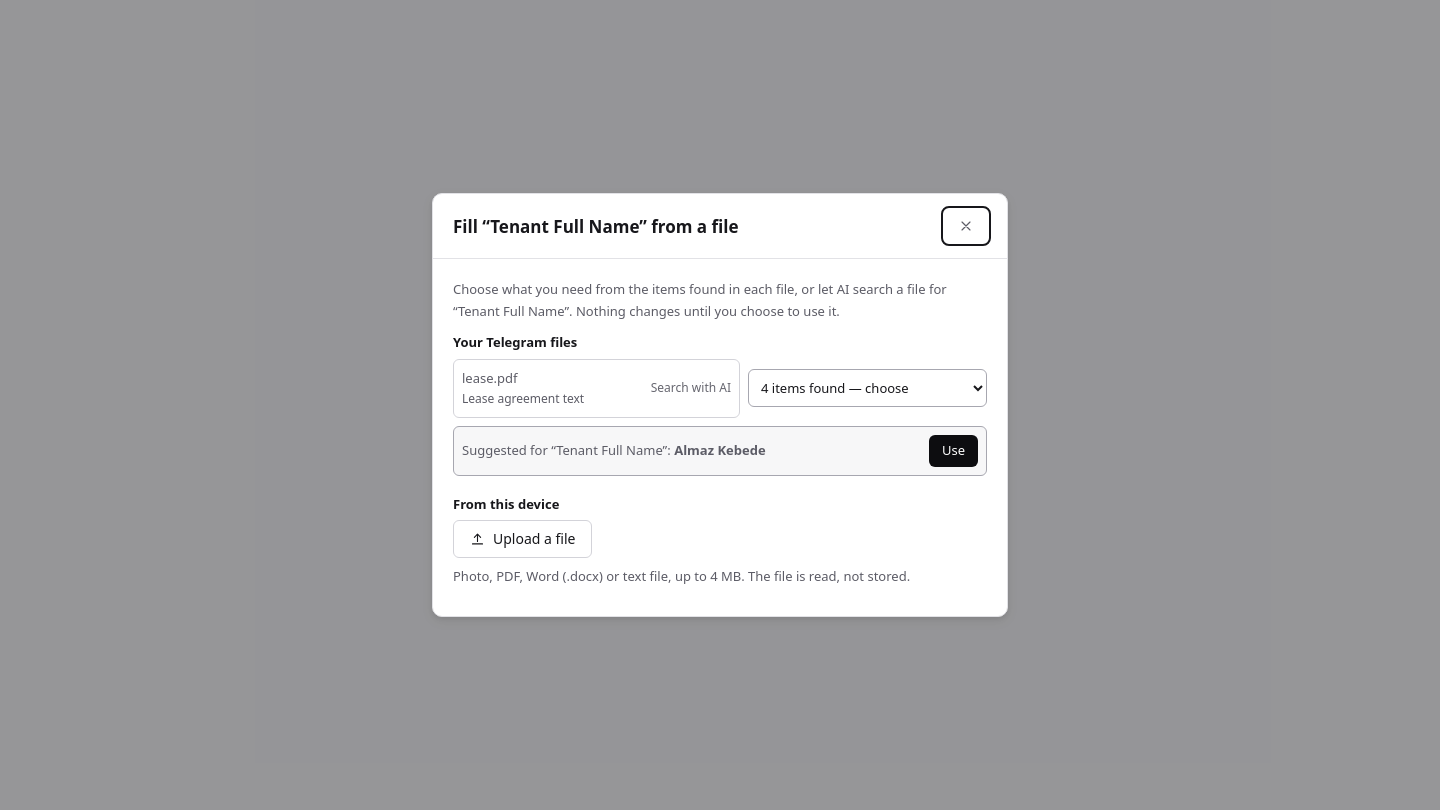
FieldFileFillDialog with the items found in each file › fills the field with the items chosen from the dropdown, which can still be edited
Later steps or results of the test are not shown.
Select "Vehicle: Toyota Corolla" in the dropdown with test id "field-fill-items-f1" at (868, 388), box [748,369,987,407]
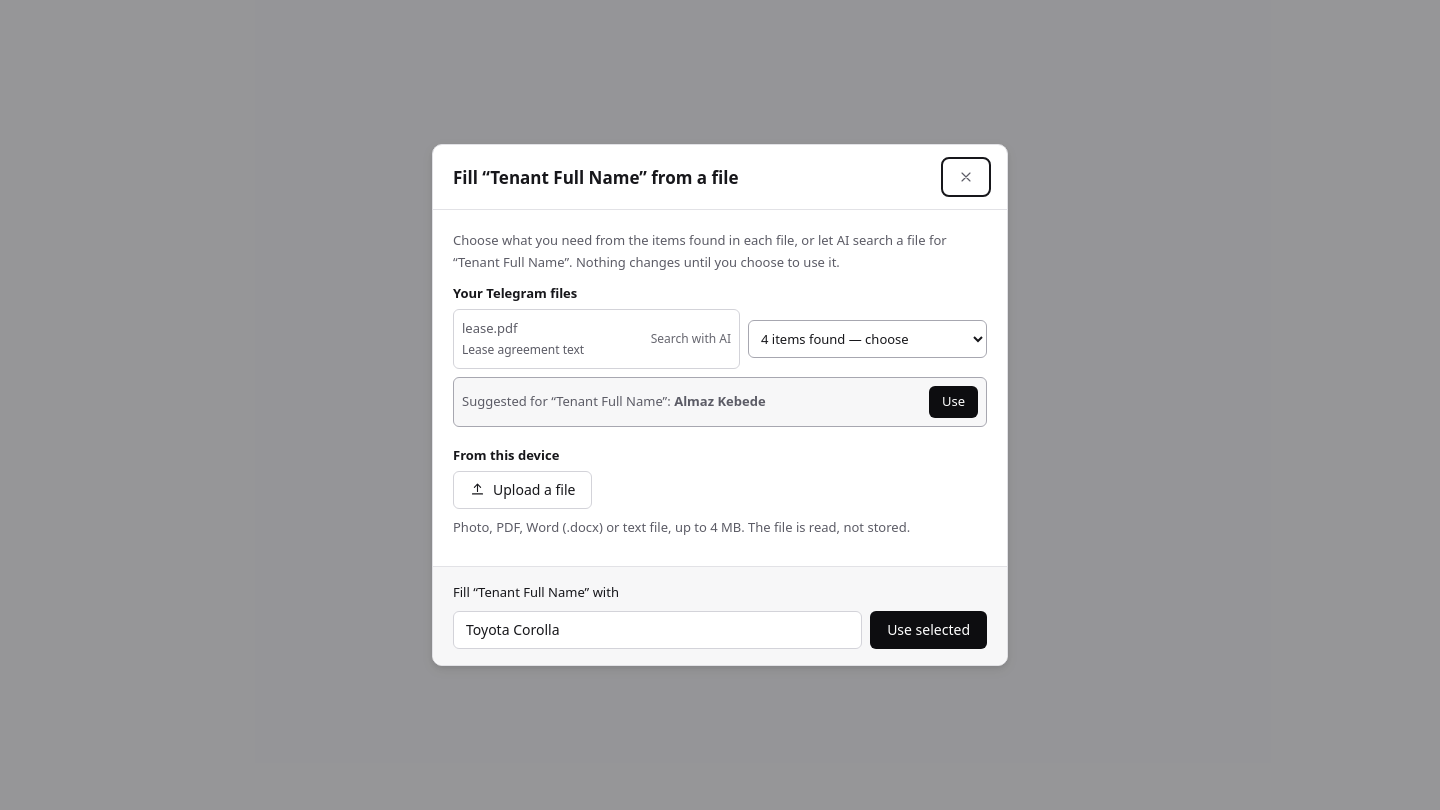
Select "Tenant: Almaz Kebede" in the dropdown with test id "field-fill-items-f1" at (868, 339), box [748,320,987,358]
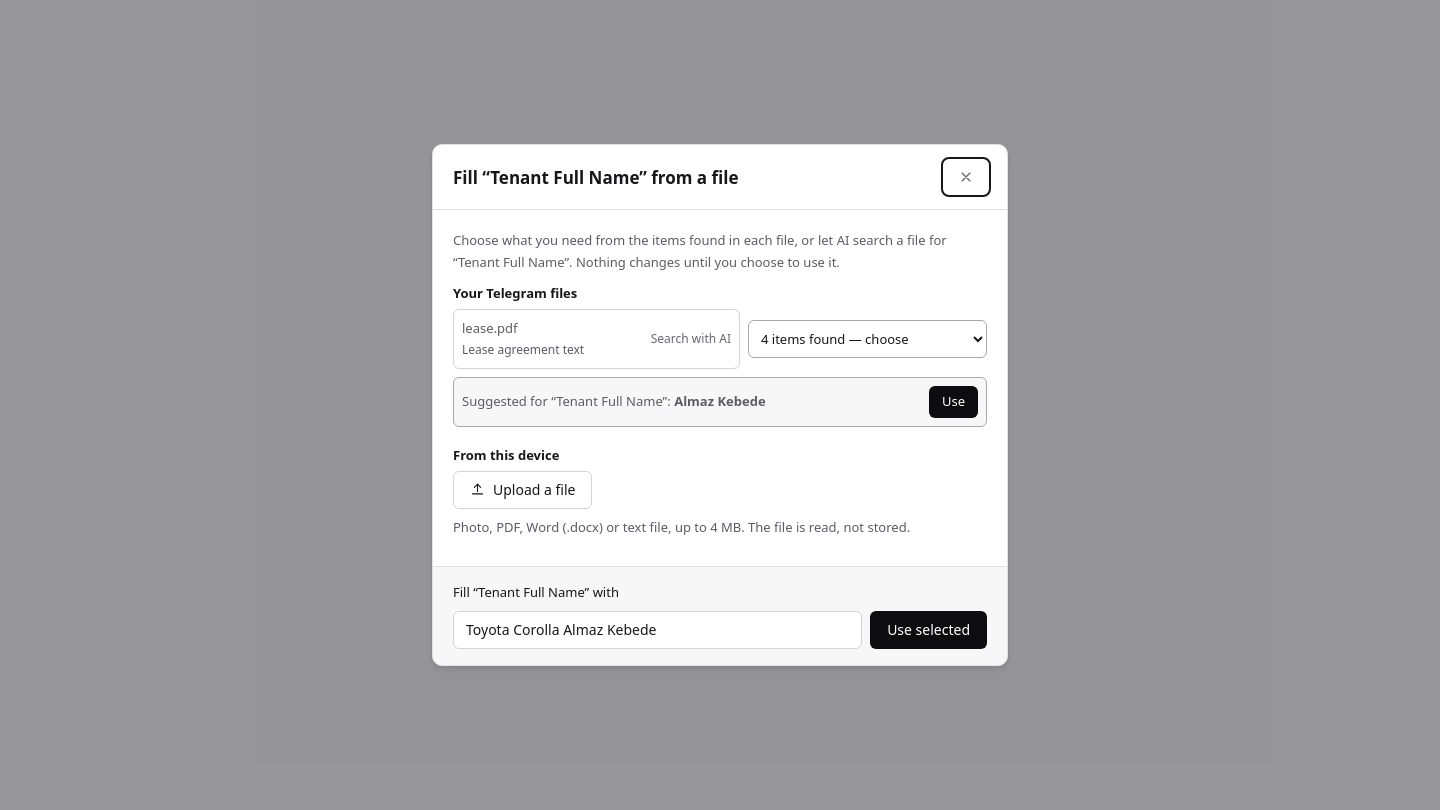
Check: the field holds "Toyota Corolla Almaz Kebede", box [453,611,862,649]
Select "✓ Vehicle: Toyota Corolla" in the dropdown with test id "field-fill-items-f1" at (868, 339), box [748,320,987,358]
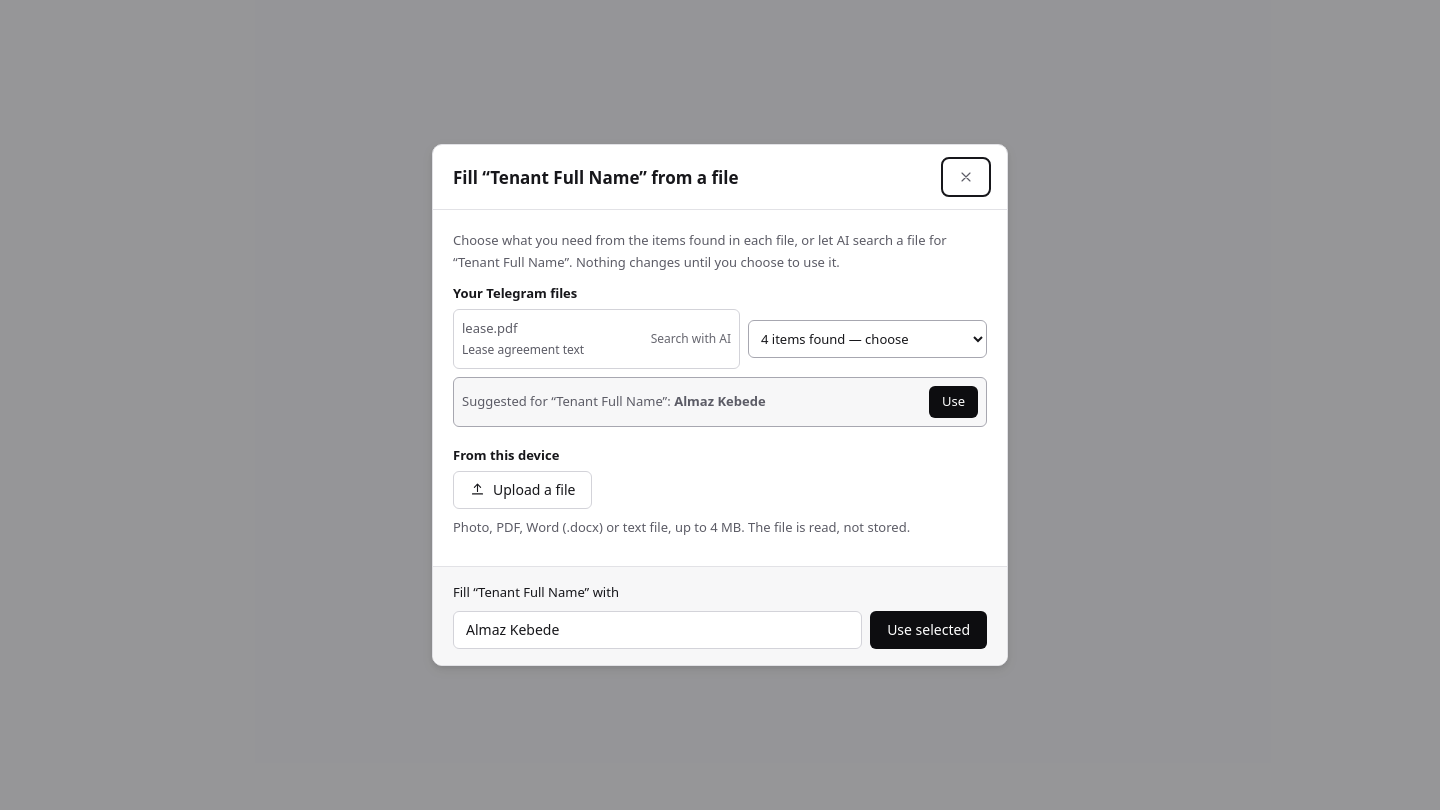
Check: the field holds "Almaz Kebede", box [453,611,862,649]
